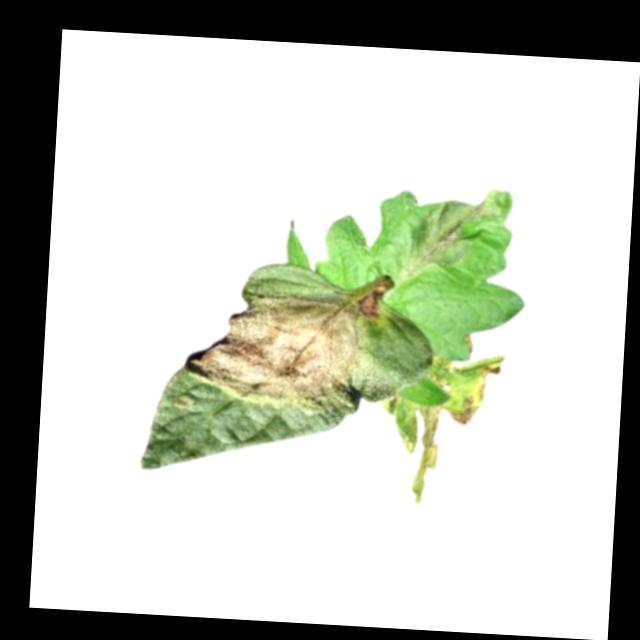Late_blight: (181, 278, 382, 407), (388, 345, 508, 509), (405, 180, 513, 286)
